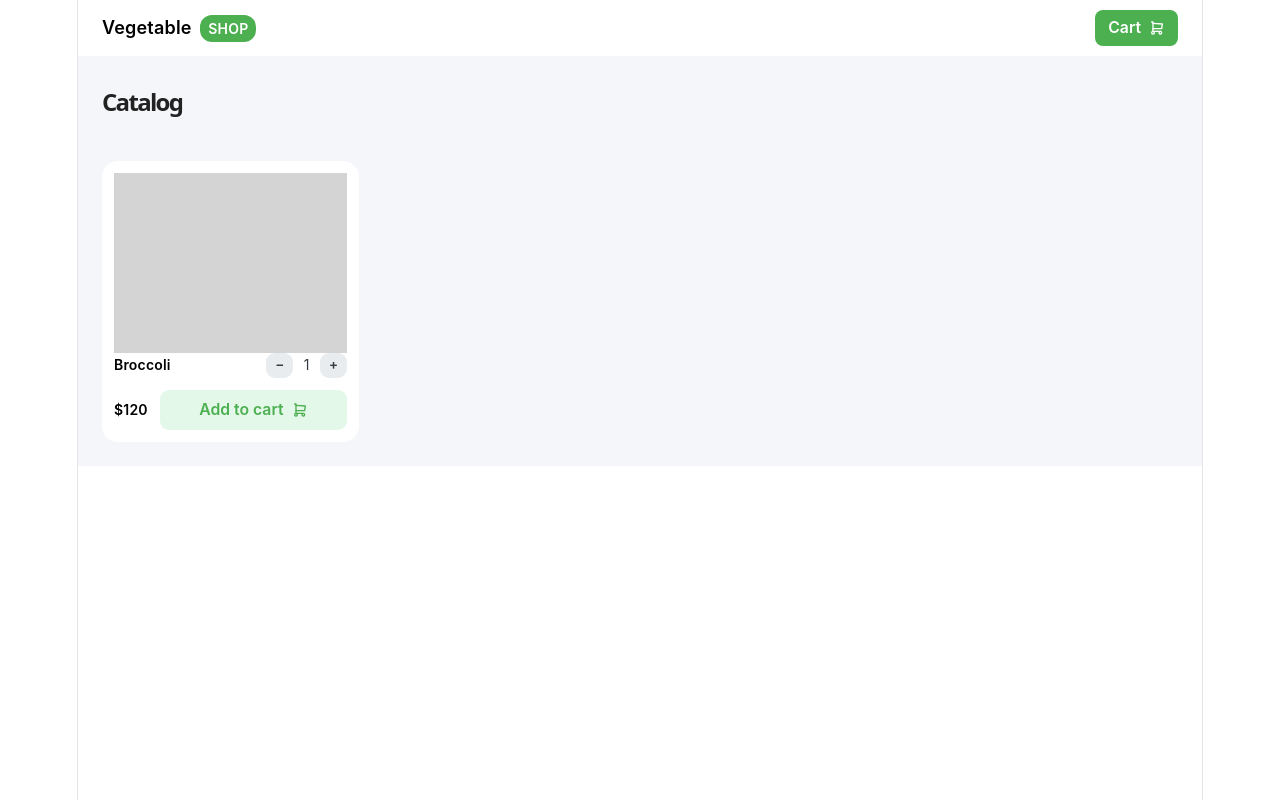
Test case: App › adds product to cart
This screenshot has width=1280, height=800.
Expected: the text "Broccoli" is shown, [114, 354, 171, 376]
Click the button "Add to cart".
click(253, 410)  # box [160, 390, 347, 430]
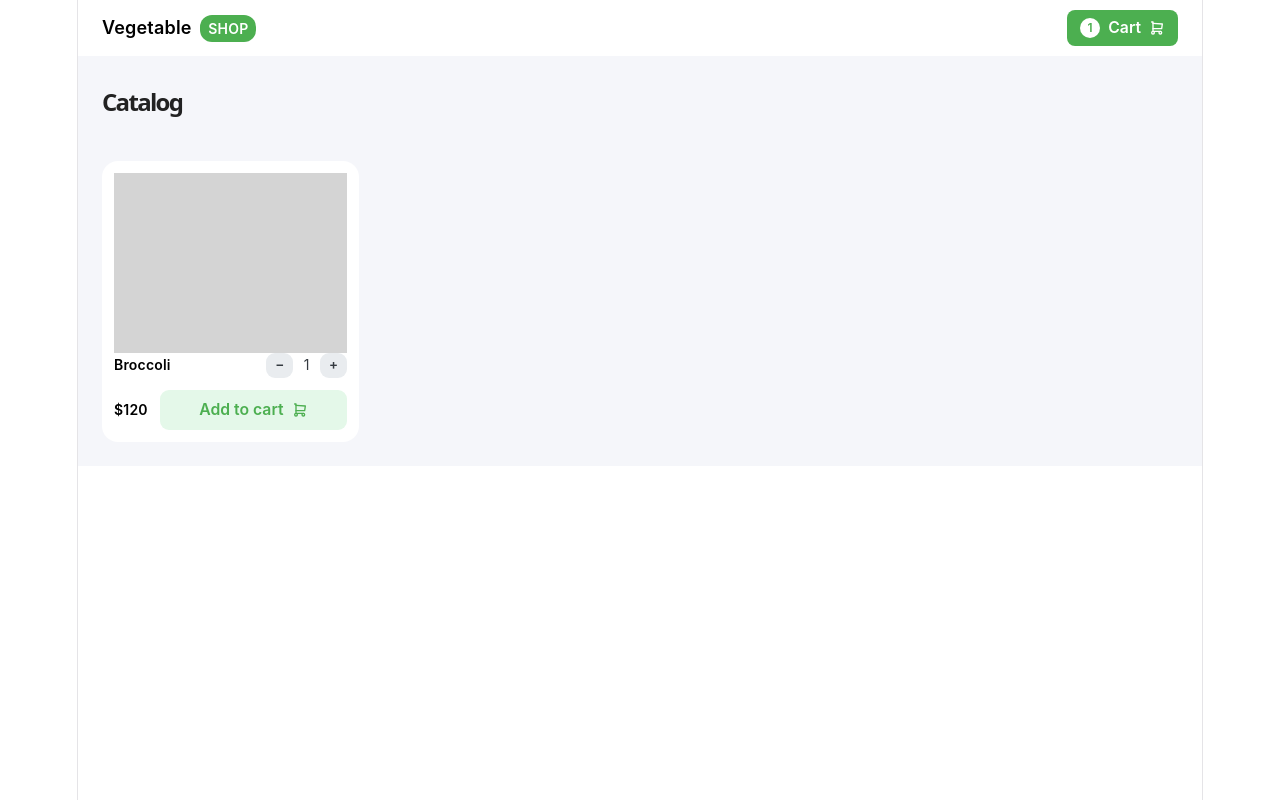
Now the element with class "header__badge" reads "1", box [1088, 20, 1093, 35]
